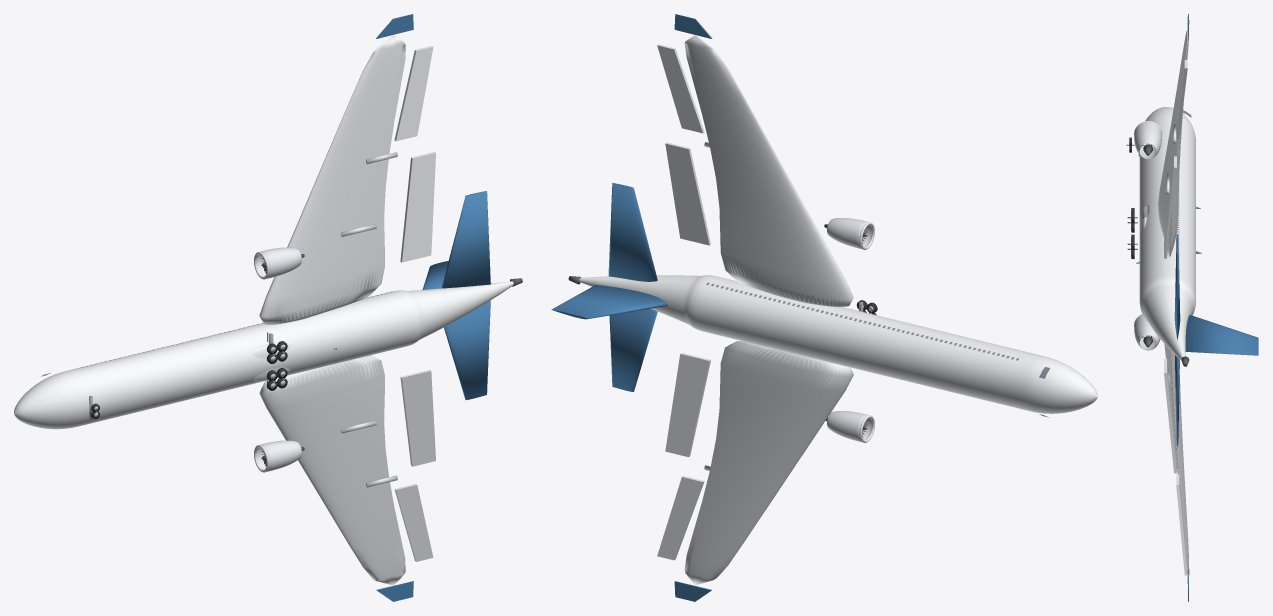
3 views of the same model, side by side, from view 1: azimuth 30°, elevation 25°; view 2: azimuth 150°, elevation 25°; view 3: azimuth 270°, elevation 25° (orthographic).
Parts seen in each view (by area): view 1: Fuselage, Wing_R, Wing_L, HStab_R, HStab_L, Flap_R, Flap_L, Aileron_R, Aileron_L, Nacelle_1_0, Nacelle_-1_0; view 2: Fuselage, Wing_L, Wing_R, HStab_R, Flap_L, HStab_L, Flap_R, Fin, Aileron_L, Aileron_R, Nacelle_-1_0, Nacelle_1_0; view 3: Fuselage, Fin, Wing_R, Wing_L, Nacelle_1_0, Flap_L, Nacelle_-1_0, Flap_R, Aileron_L, HStab_R, Aileron_R, HStab_L.
Part boxes in pixels (x1,y1,x2,y2): Fuselage: [14, 281, 513, 429]; Wing_R: [259, 35, 405, 324]; Wing_L: [259, 355, 405, 585]; HStab_R: [441, 191, 490, 288]; HStab_L: [444, 300, 490, 399]; Flap_R: [400, 152, 435, 262]; Flap_L: [400, 369, 435, 466]; Aileron_R: [394, 46, 433, 141]; Aileron_L: [394, 483, 433, 561]; Nacelle_1_0: [256, 247, 301, 278]; Nacelle_-1_0: [256, 440, 301, 471]; Fuselage: [579, 275, 1097, 413]; Wing_L: [684, 341, 853, 585]; Wing_R: [684, 35, 853, 306]; HStab_R: [608, 183, 657, 281]; Flap_L: [665, 353, 710, 457]; HStab_L: [609, 308, 657, 391]; Flap_R: [665, 142, 710, 245]; Fin: [551, 285, 667, 319]; Aileron_L: [657, 476, 704, 560]; Aileron_R: [657, 44, 704, 133]; Nacelle_-1_0: [827, 411, 872, 441]; Nacelle_1_0: [827, 218, 872, 248]; Fuselage: [1139, 107, 1195, 360]; Fin: [1185, 315, 1258, 355]; Wing_R: [1158, 30, 1188, 257]; Wing_L: [1164, 344, 1188, 575]; Nacelle_1_0: [1134, 122, 1161, 158]; Flap_L: [1164, 358, 1176, 473]; Nacelle_-1_0: [1134, 314, 1160, 350]; Flap_R: [1164, 156, 1176, 258]; Aileron_L: [1176, 474, 1187, 575]; HStab_R: [1174, 234, 1180, 339]; Aileron_R: [1176, 60, 1187, 138]; HStab_L: [1175, 355, 1179, 446].
Size of the model in its own units: 59.24 by 63.73 by 13.21.
